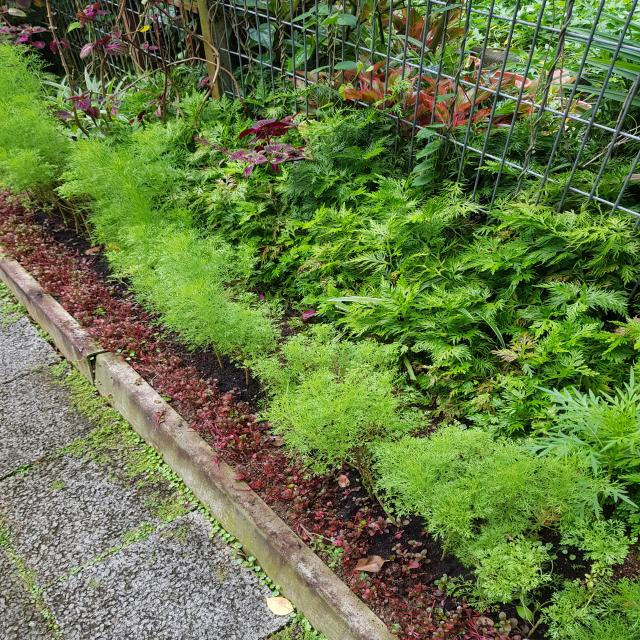Coleus: (226, 115, 320, 176)
Dill: (106, 208, 273, 353), (384, 436, 574, 545), (260, 344, 406, 461), (35, 138, 157, 209)
